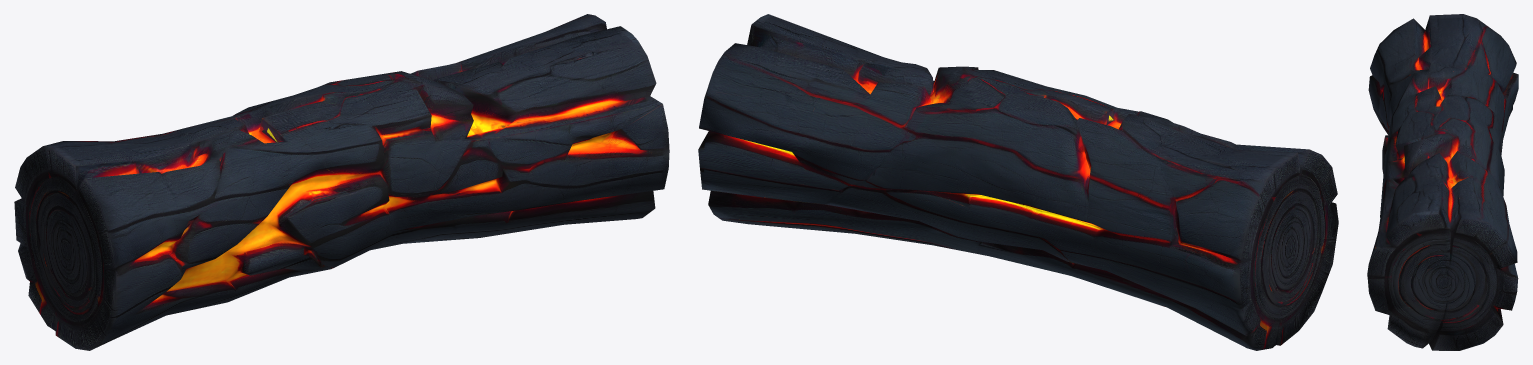
The model's file is prop-campfire-log.glb.
3 renders of one model, left to right at view 1: azimuth 30°, elevation 25°; view 2: azimuth 150°, elevation 25°; view 3: azimuth 270°, elevation 25°, orthographic. The views are drawn at different scales.
Size of the model in its own units: 2 by 0.6566 by 0.6429.
1 material, 1 textured.
